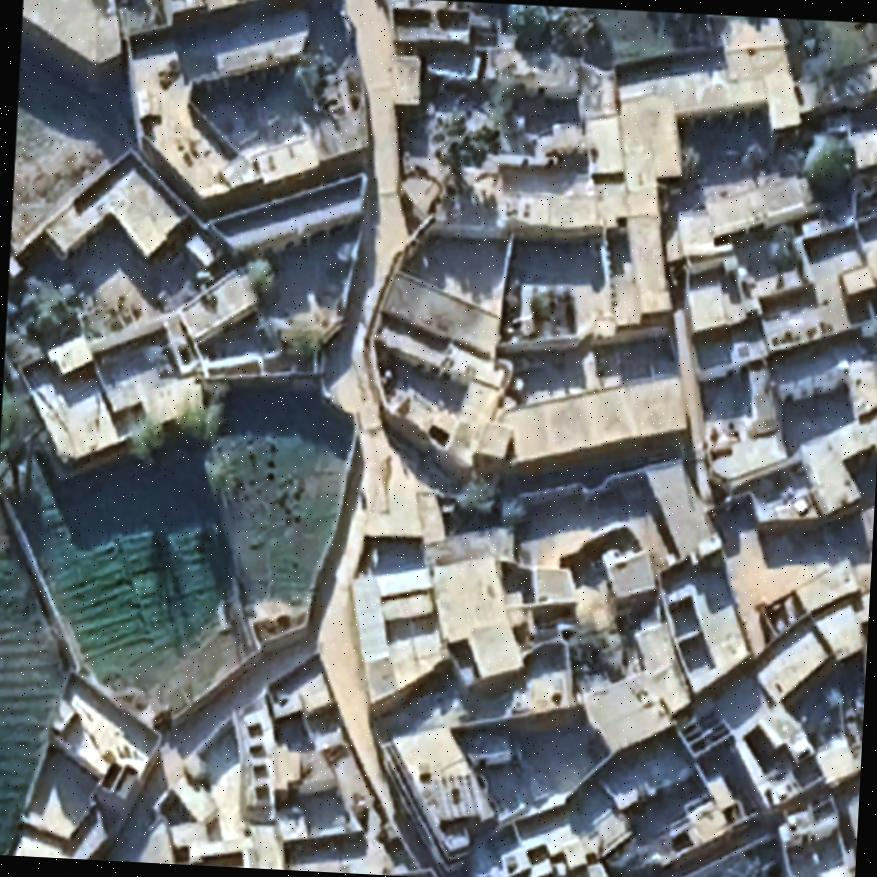Solarpanel: (426, 769, 481, 821)
